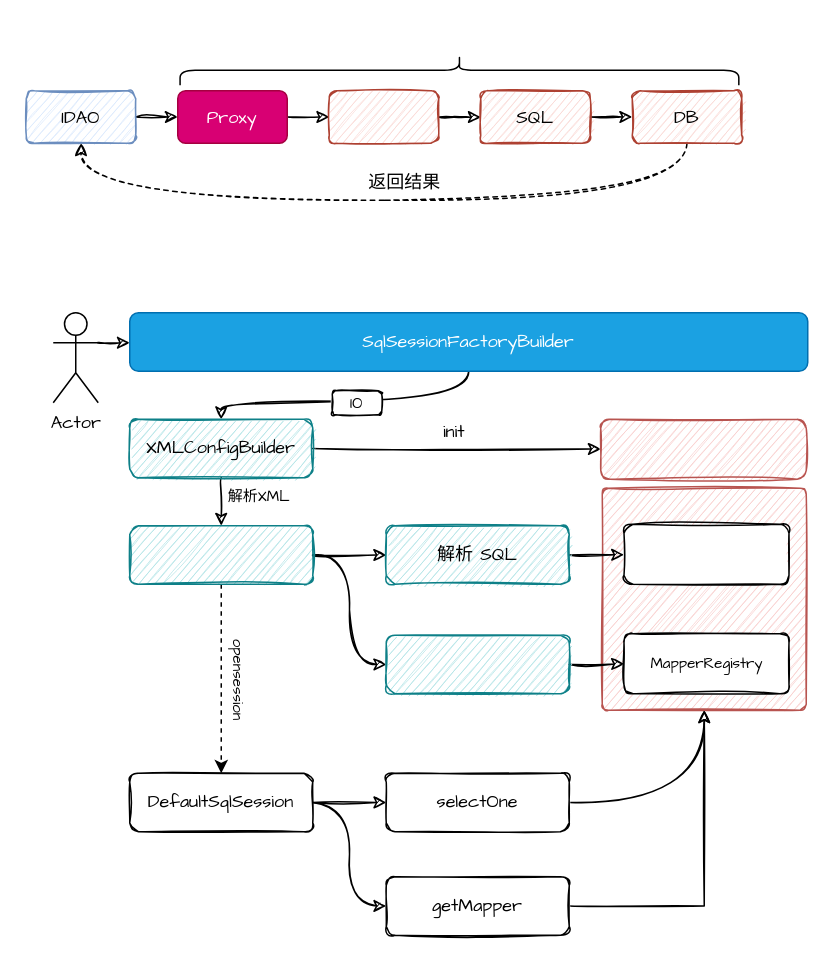
Image size: 834x962. Some labels were removed from this diagram. Here are the shapes that lost their labels. From the top down, the centre of each, then its label:
At (459,69): "为接口包装代理操作".
At (383,116): "Mapper".
At (702,448): "Configuration".
At (220,554): "parse".
At (705,553): "MappedStatement".
At (477,664): "注册 Mapper".
